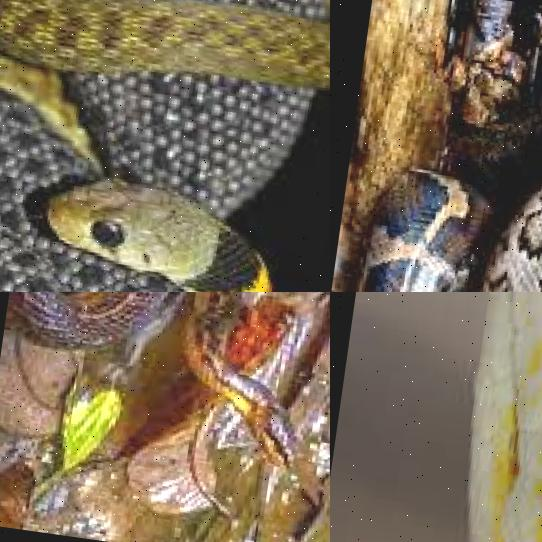snake: (0, 0, 330, 292), (0, 292, 330, 542), (347, 0, 542, 292), (459, 292, 542, 542)
